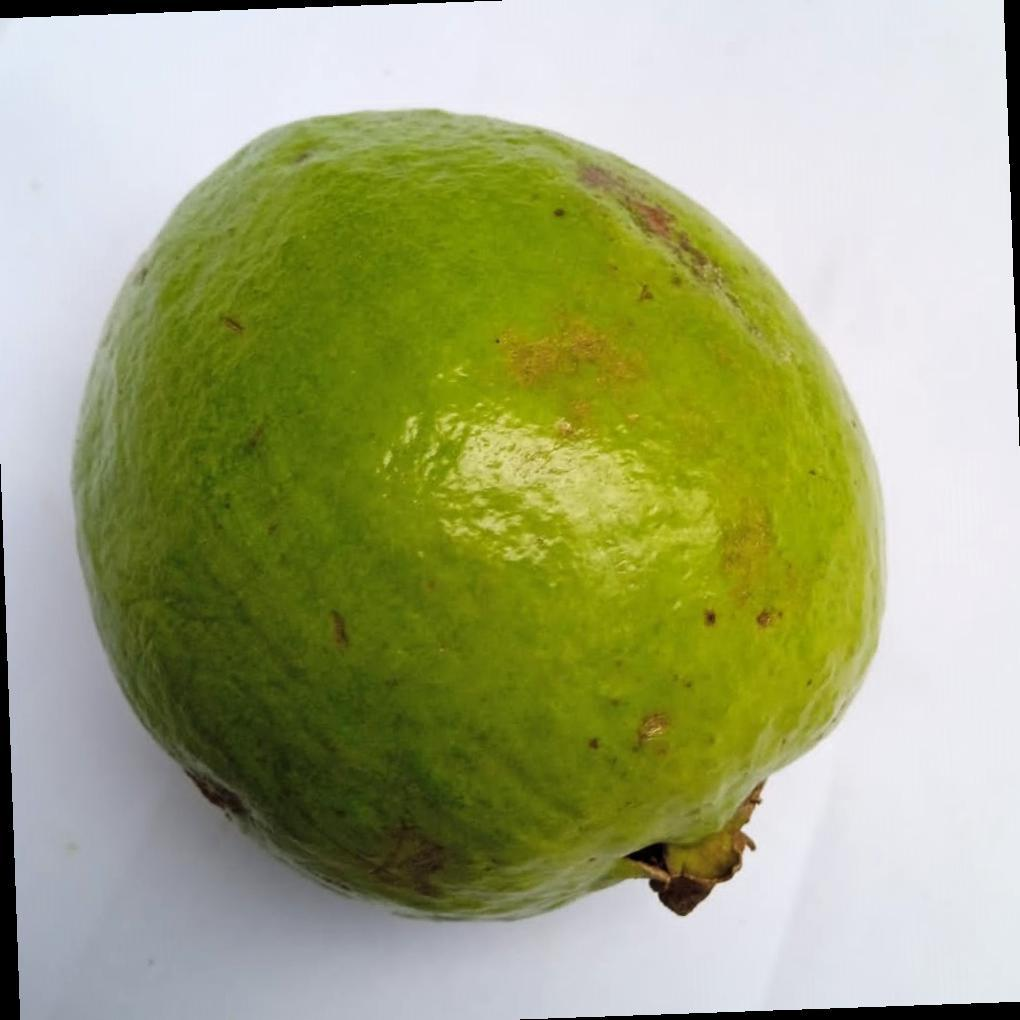FreshGuava: (70, 108, 888, 926)
